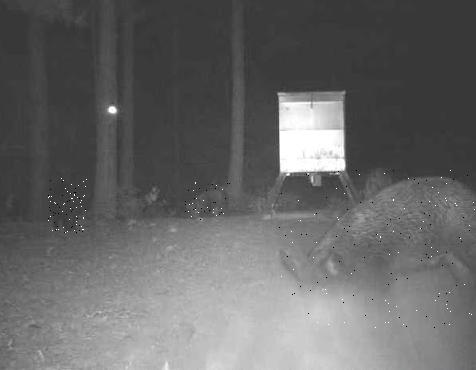Hog: (279, 170, 476, 328), (48, 178, 87, 234), (185, 182, 231, 220)
